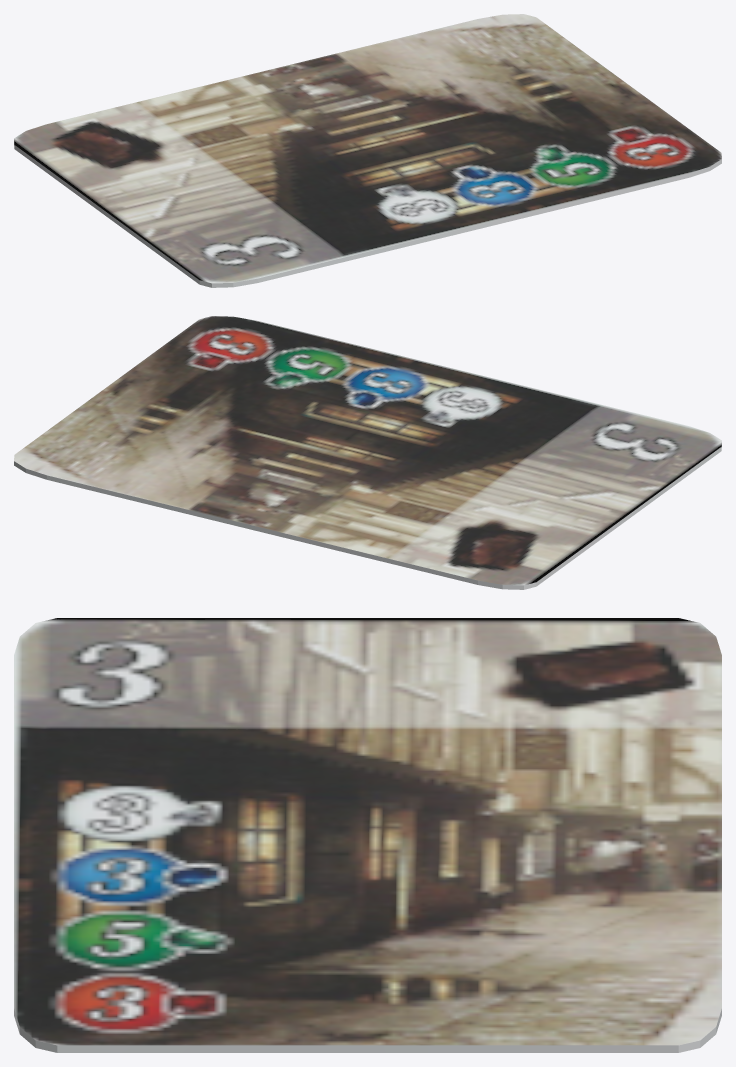
3 renders of one model, top to bottom at view 1: azimuth 30°, elevation 25°; view 2: azimuth 150°, elevation 25°; view 3: azimuth 270°, elevation 25°, orthographic. The views are drawn at different scales.
Parts seen in each view (by area): view 1: Card1; view 2: Card1; view 3: Card1.
Boxes of the visible parts, x1,y1,x2,y2 form: Card1: [14, 14, 721, 287]; Card1: [14, 316, 721, 589]; Card1: [14, 618, 721, 1052].
Bounding box in the file's own units: 700 × 5.74 × 490.
